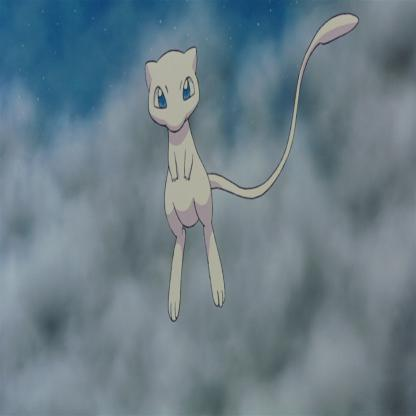Mew: (127, 20, 373, 331)
